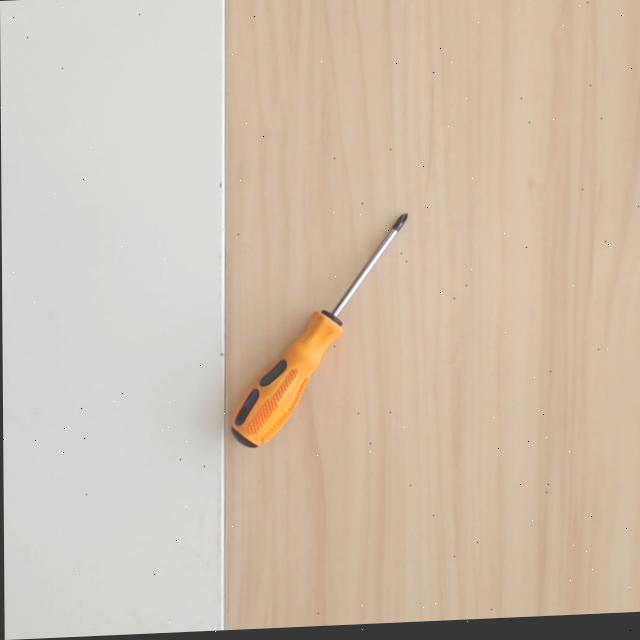Obeng-Besar: (221, 190, 413, 458)
